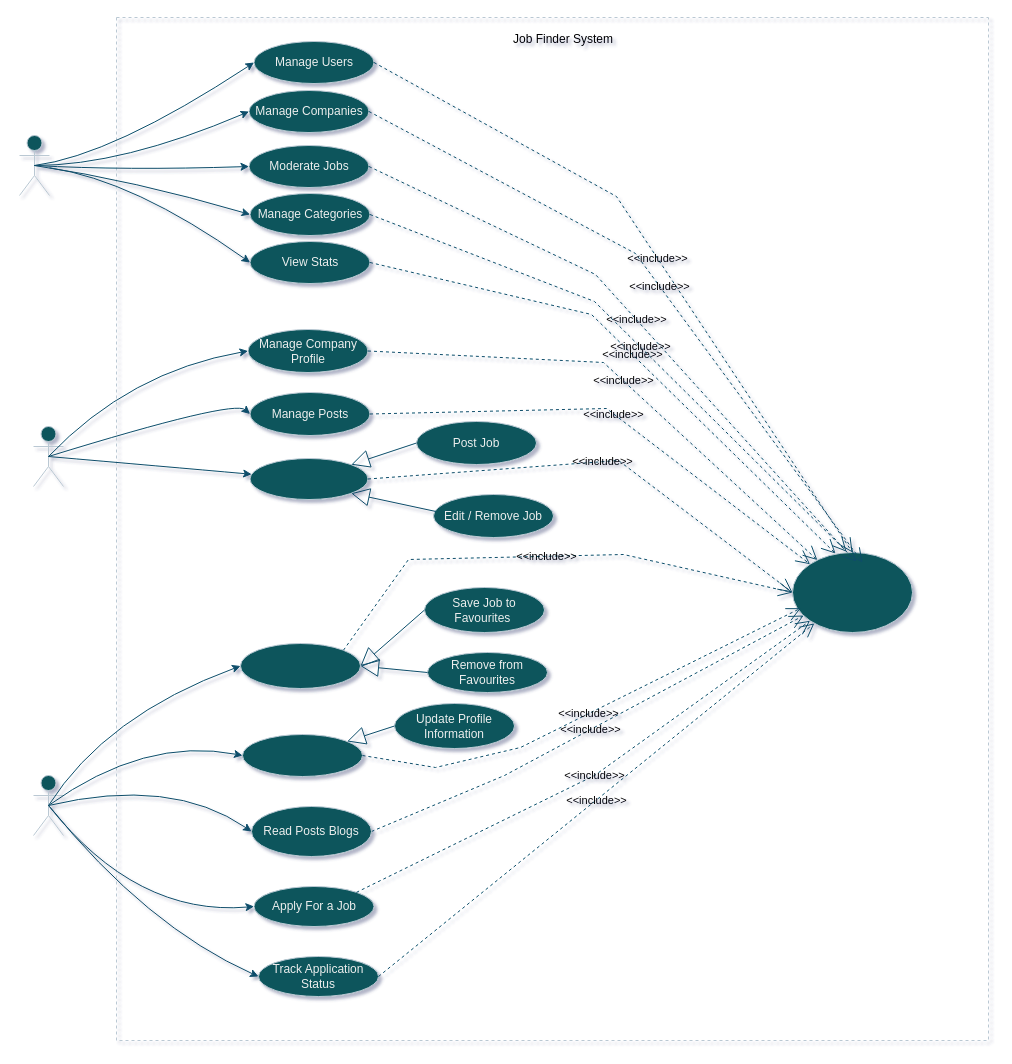
Image size: 1012x1064. Some labels were removed from this diagram. Here are the shapes that lost their labels. From the top down, the centre of each, then its label:
the point at 34,165: Admin
the point at 48,456: Recruiter
the point at 308,479: Manage Jobs Offers
the point at 852,592: authontification
the point at 300,665: Manage Favourites
the point at 302,755: Manage Profile
the point at 48,805: Job Seeker
